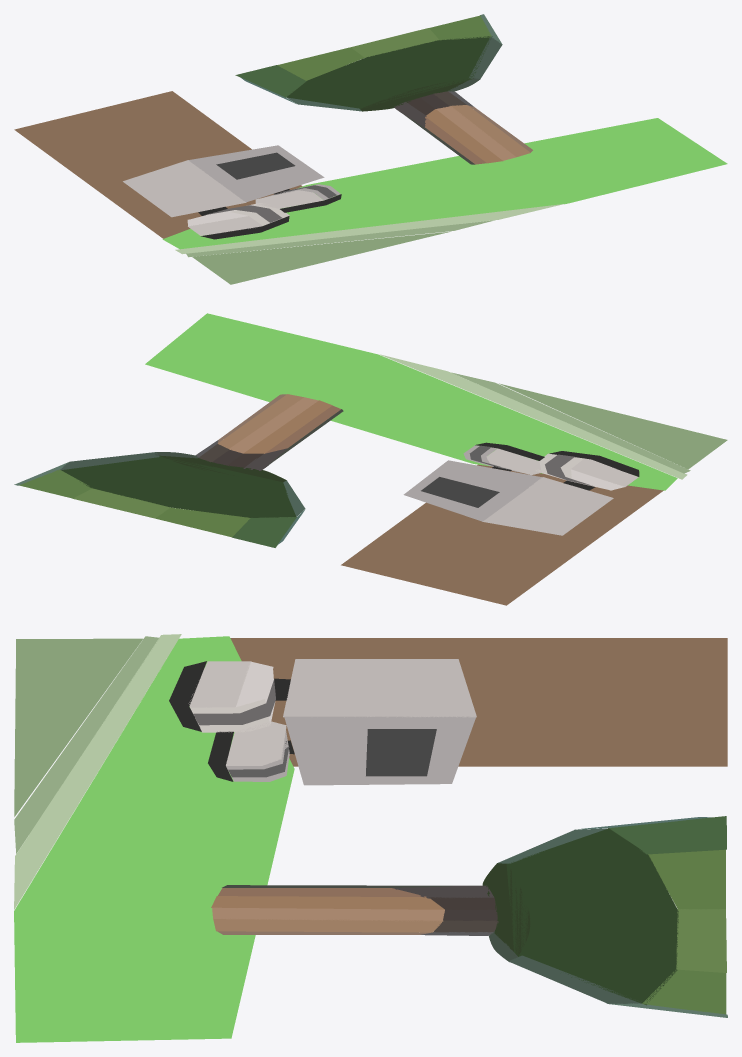
File: CLEARGAMENNNNNN.fbx
3 renders of one model, top to bottom at view 1: azimuth 30°, elevation 25°; view 2: azimuth 150°, elevation 25°; view 3: azimuth 270°, elevation 25°, orthographic. The views are drawn at different scales.
Parts seen in each view (by area): view 1: Curve, Curve.001, Curve.036, Curve.041, Curve.003, Curve.002, Curve.039, Curve.040, Curve.031, Curve.030, Curve.004, Curve.032 (+10 smaller); view 2: Curve, Curve.001, Curve.036, Curve.041, Curve.003, Curve.002, Curve.039, Curve.040, Curve.031, Curve.030, Curve.032, Curve.004 (+10 smaller); view 3: Curve, Curve.001, Curve.036, Curve.041, Curve.003, Curve.002, Curve.039, Curve.040, Curve.031, Curve.030, Curve.004, Curve.032 (+21 smaller).
Part boxes in pixels (box(x1,y1,x2,y2)): Curve: box(162, 118, 727, 249); Curve.001: box(14, 91, 302, 238); Curve.036: box(286, 36, 492, 109); Curve.041: box(192, 231, 450, 284); Curve.003: box(123, 160, 246, 217); Curve.002: box(188, 145, 324, 202); Curve.039: box(175, 204, 563, 254); Curve.040: box(186, 220, 494, 257); Curve.031: box(277, 47, 364, 80); Curve.030: box(235, 65, 306, 97); Curve.004: box(216, 152, 295, 179); Curve.032: box(351, 28, 438, 57); Curve: box(145, 313, 677, 490); Curve.001: box(341, 464, 663, 605); Curve.036: box(61, 455, 296, 517); Curve.041: box(499, 383, 727, 469); Curve.003: box(482, 477, 613, 535); Curve.002: box(403, 460, 541, 521); Curve.039: box(379, 354, 687, 479); Curve.040: box(451, 372, 690, 473); Curve.031: box(155, 507, 250, 537); Curve.030: box(232, 517, 296, 547); Curve.032: box(73, 488, 170, 518); Curve.004: box(421, 477, 499, 507); Curve: box(14, 636, 294, 1042); Curve.001: box(230, 638, 727, 766); Curve.036: box(506, 828, 678, 1005); Curve.041: box(14, 638, 142, 816); Curve.003: box(283, 659, 476, 717); Curve.002: box(284, 716, 475, 785); Curve.039: box(14, 634, 181, 909); Curve.040: box(14, 636, 158, 853); Curve.031: box(648, 849, 725, 909); Curve.030: box(608, 816, 726, 854); Curve.004: box(366, 729, 436, 776); Curve.032: box(676, 909, 726, 972).
Bounding box in the file's own units: 13.8 × 0.03 × 10.2.
